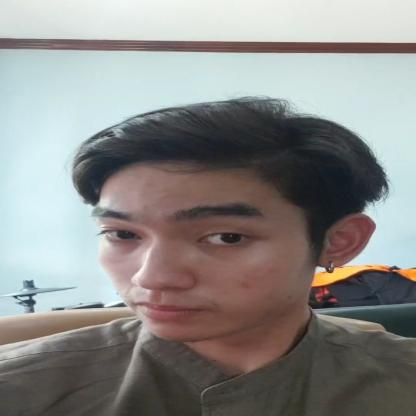Palm: (46, 93, 416, 356)
